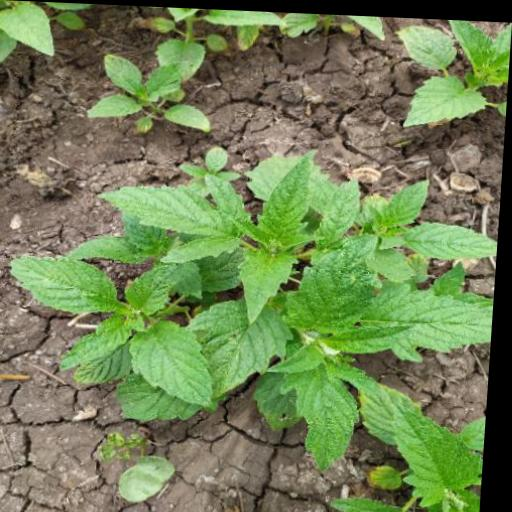crop: (0, 132, 505, 451), (387, 14, 512, 126), (85, 53, 219, 131)
